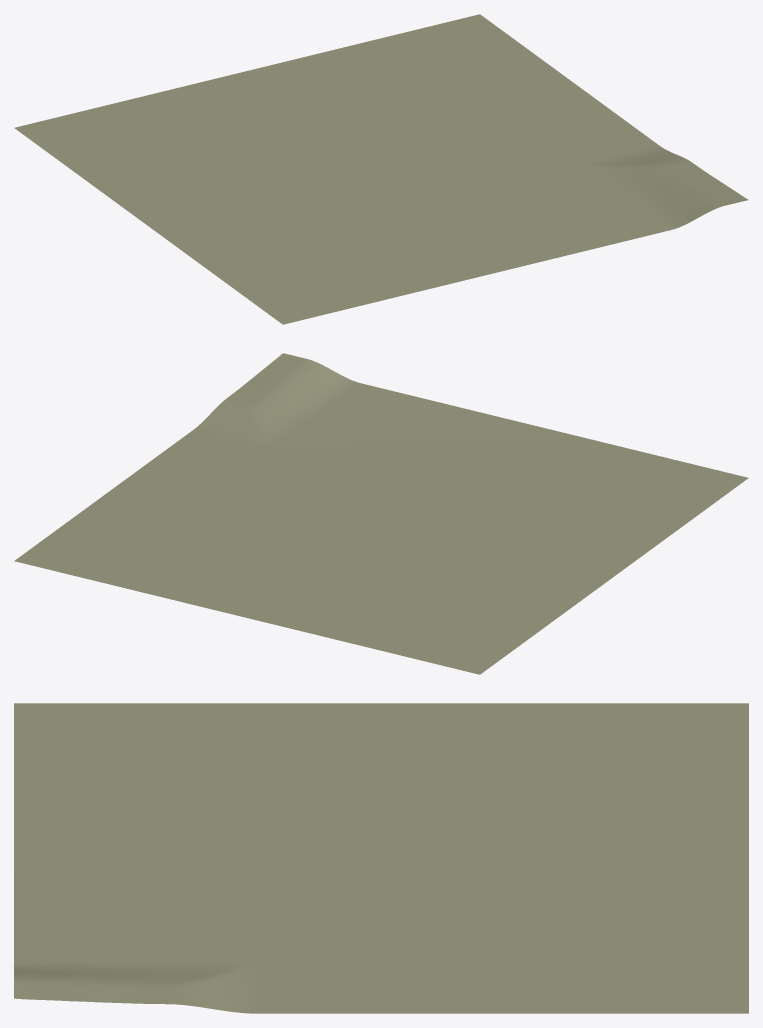
File: SM_VB_CityTerrain_9_3.fbx
The picture shows the model from 3 angles, top to bottom: view 1: azimuth 30°, elevation 25°; view 2: azimuth 150°, elevation 25°; view 3: azimuth 270°, elevation 25°; orthographic projection. The views are drawn at different scales.
Parts seen in each view (by area): view 1: SM_VB_CityTerrain_9_3; view 2: SM_VB_CityTerrain_9_3; view 3: SM_VB_CityTerrain_9_3.
Part boxes in pixels (x1,y1,x2,y2): SM_VB_CityTerrain_9_3: (14,14,748,324); SM_VB_CityTerrain_9_3: (14,353,748,674); SM_VB_CityTerrain_9_3: (14,703,748,1013).
Size of the model in its own units: 600 by 13.79 by 600.
